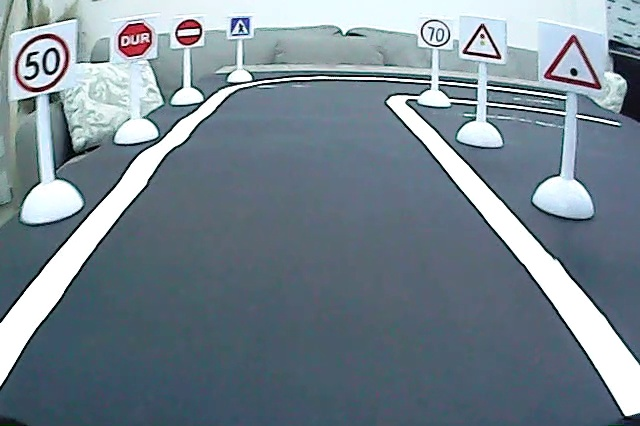do not enter: (174, 16, 205, 48)
green light: (538, 30, 605, 94)
pedestrian crossing: (229, 16, 252, 38)
red light: (461, 18, 504, 64)
speed limit 50: (13, 31, 73, 96)
speed limit 70: (418, 19, 452, 49)
stop sign: (112, 16, 156, 62)
